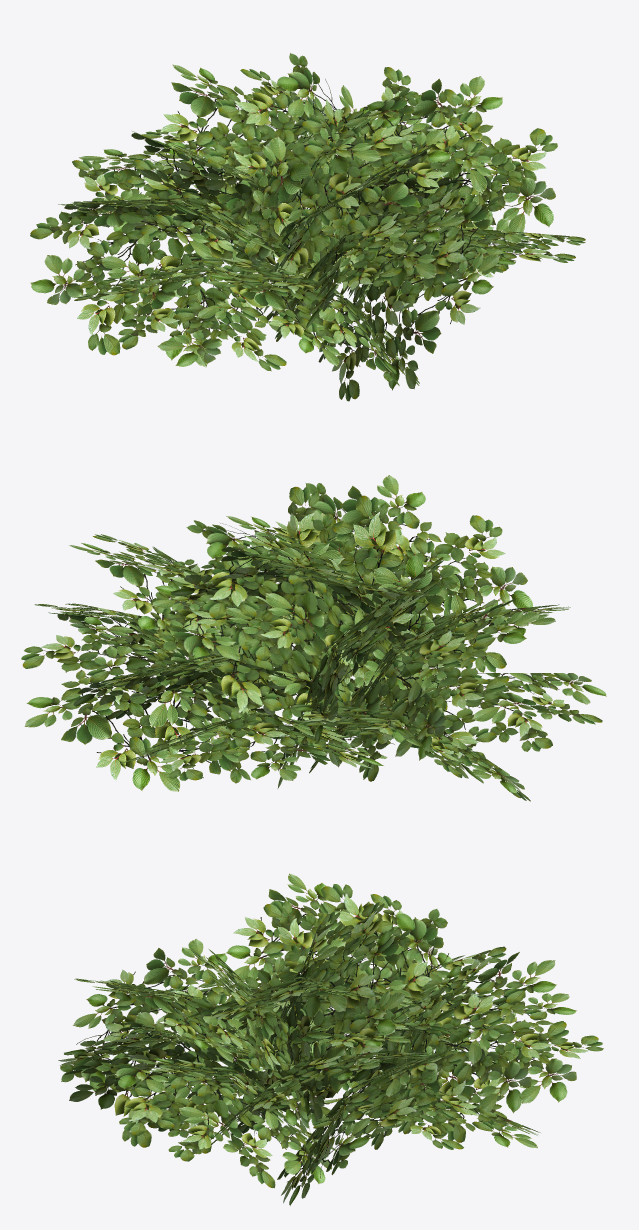
The model's file is tree_a.FBX.
The picture shows the model from 3 angles, top to bottom: view 1: azimuth 30°, elevation 25°; view 2: azimuth 150°, elevation 25°; view 3: azimuth 270°, elevation 25°; orthographic projection. The views are drawn at different scales.
Visible parts, largest first — view 1: tree_a; view 2: tree_a; view 3: tree_a.
Boxes of the visible parts, x1,y1,x2,y2 form: tree_a: (30, 53, 585, 401); tree_a: (21, 475, 606, 801); tree_a: (58, 873, 603, 1205).
Bounding box in the file's own units: 4.73 × 2.41 × 4.67.
Materials: 1 (1 with a texture image).
